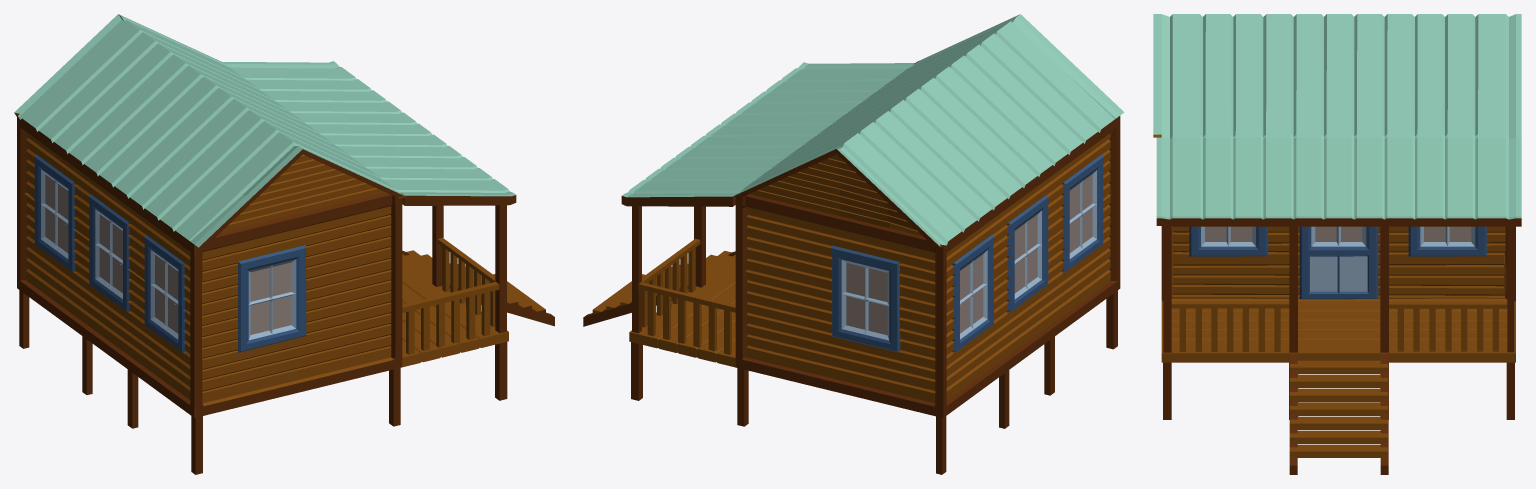
The model's file is cabin.fbx.
The picture shows the model from 3 angles, left to right: view 1: azimuth 30°, elevation 25°; view 2: azimuth 150°, elevation 25°; view 3: azimuth 270°, elevation 25°; orthographic projection.
Visible parts, largest first — view 1: Cube; view 2: Cube; view 3: Cube.
Boxes of the visible parts, x1=… form: Cube: x1=14, y1=14, x2=554, y2=474; Cube: x1=583, y1=14, x2=1124, y2=474; Cube: x1=1153, y1=14, x2=1521, y2=474.
Size of the model in its own units: 1226 by 841 by 921.
